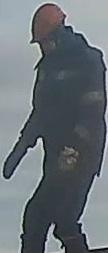gloves: (2, 130, 35, 180), (55, 135, 85, 178)
helmet: (28, 2, 68, 44)
vest: (37, 47, 105, 159)
